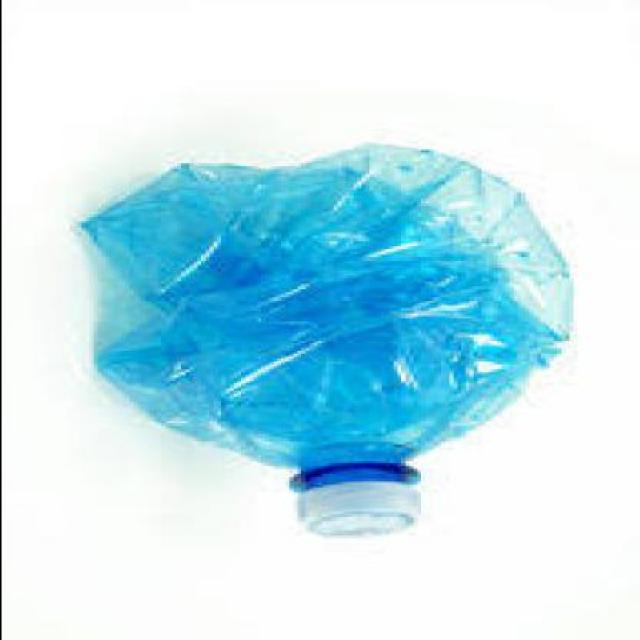PLASTIC: (72, 144, 580, 536), (288, 461, 424, 533)
